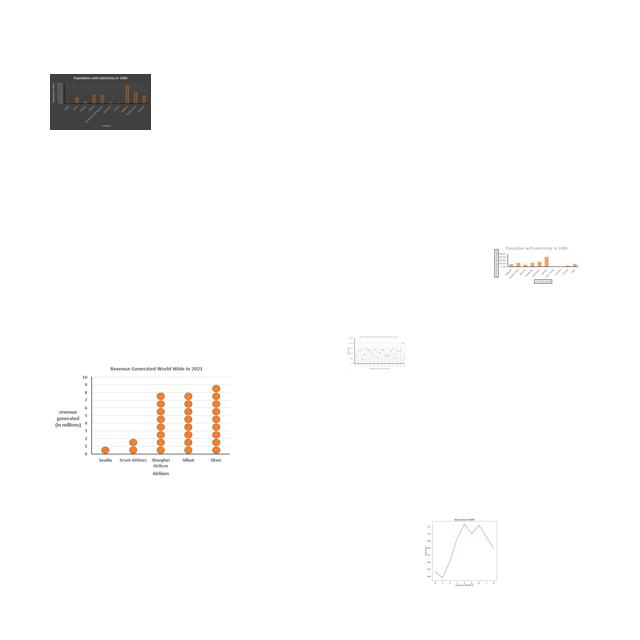Graph: (53, 364, 232, 478), (407, 512, 519, 589), (50, 74, 151, 130), (492, 244, 581, 286), (347, 335, 406, 370)
